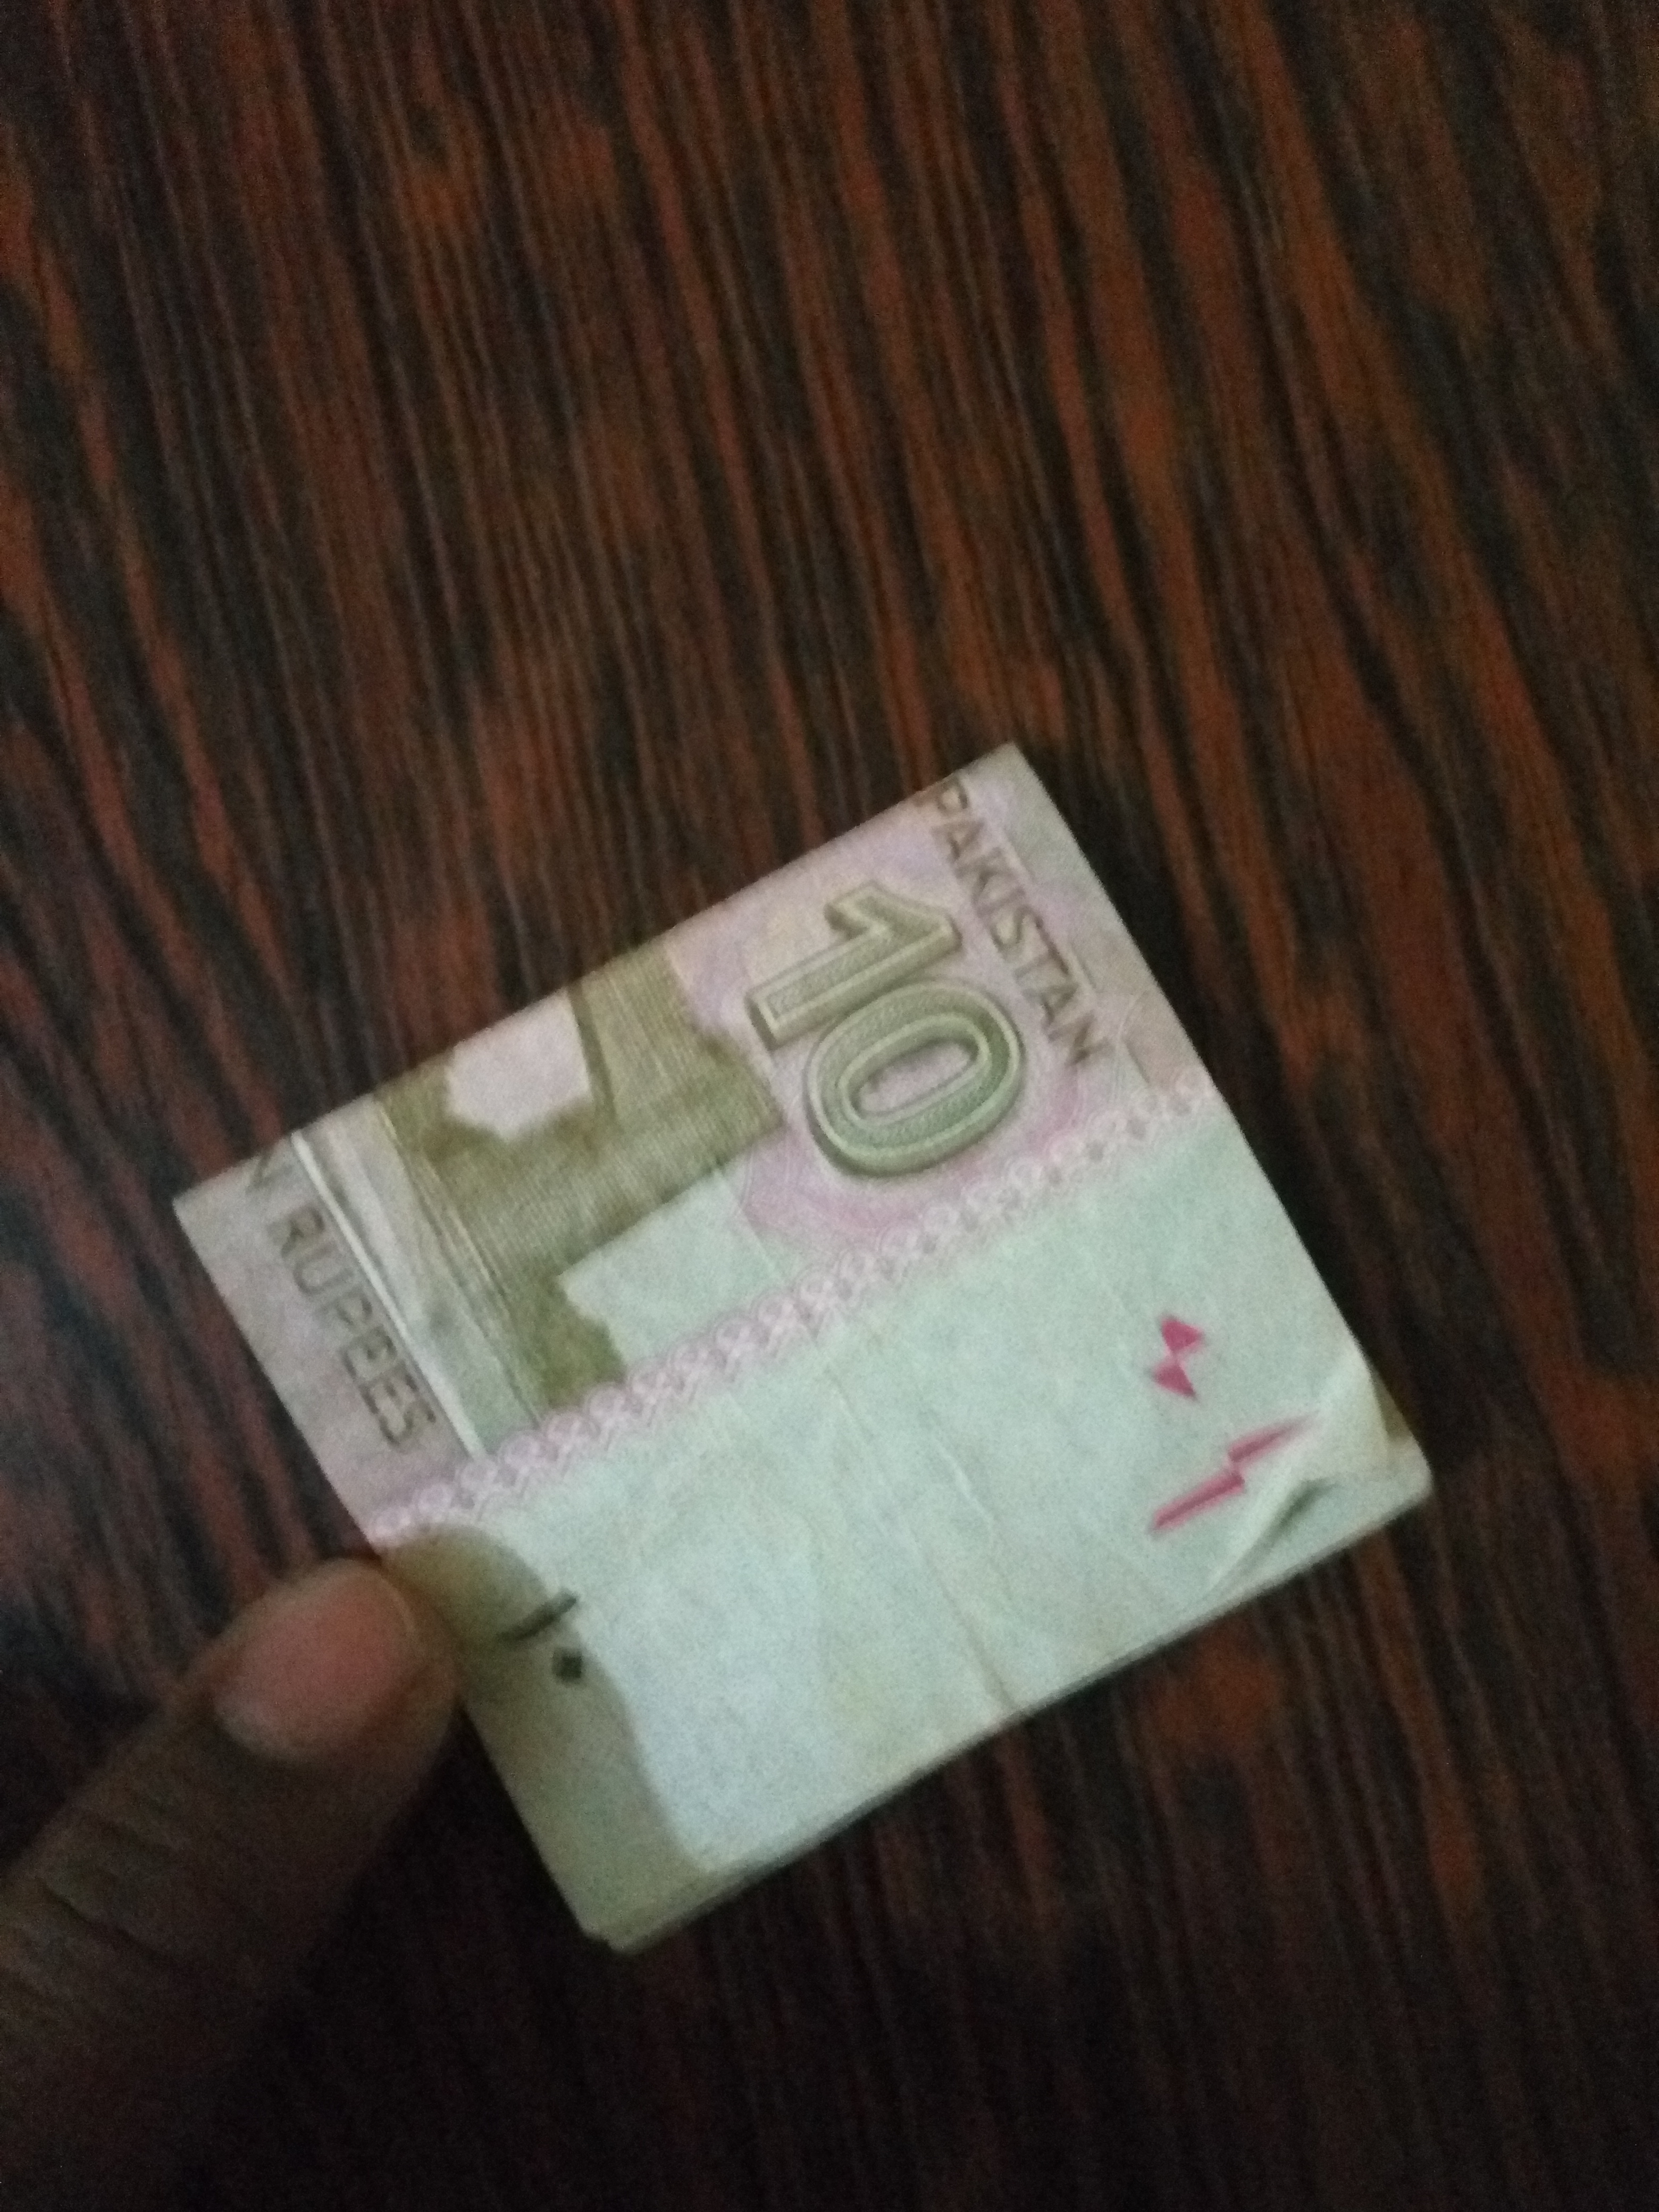10 rupee: (138, 683, 1413, 2052)
